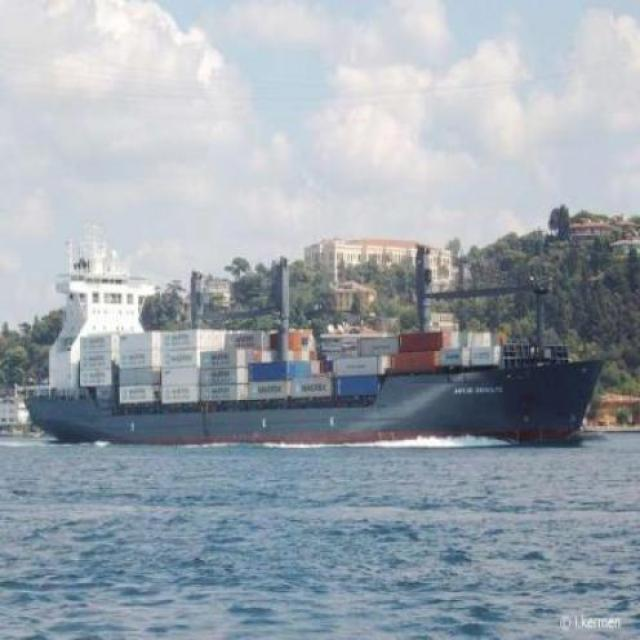boat: (21, 258, 616, 454)
